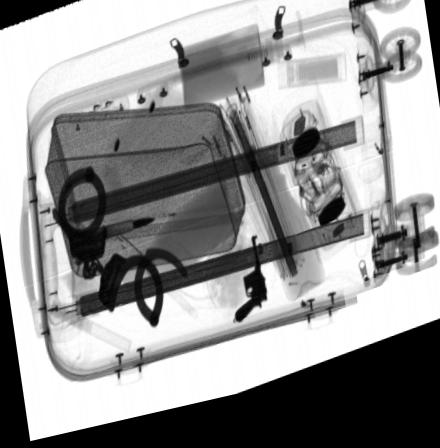Bullet: (98, 222, 154, 246)
Gun: (233, 249, 268, 336)
HandCuffs: (50, 168, 187, 334)
